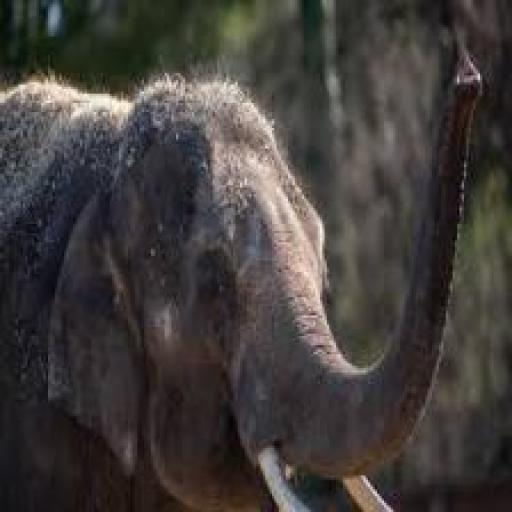Elephant: (0, 52, 484, 512)
